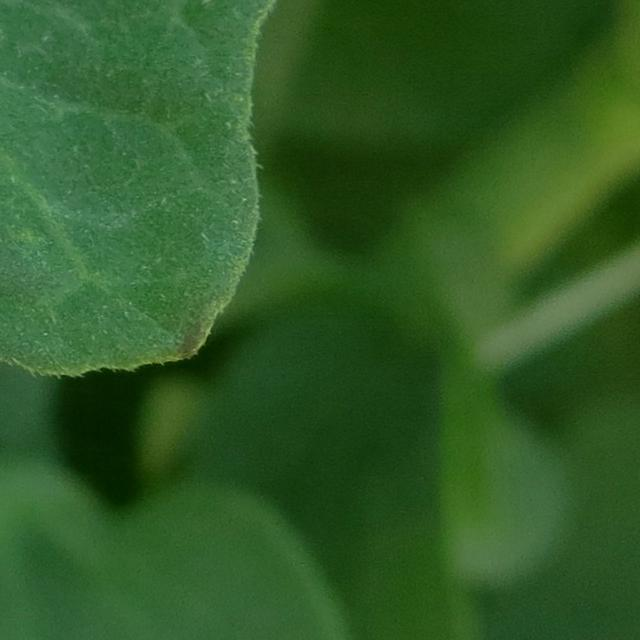Tomato leaf late blight: (0, 0, 495, 640)
